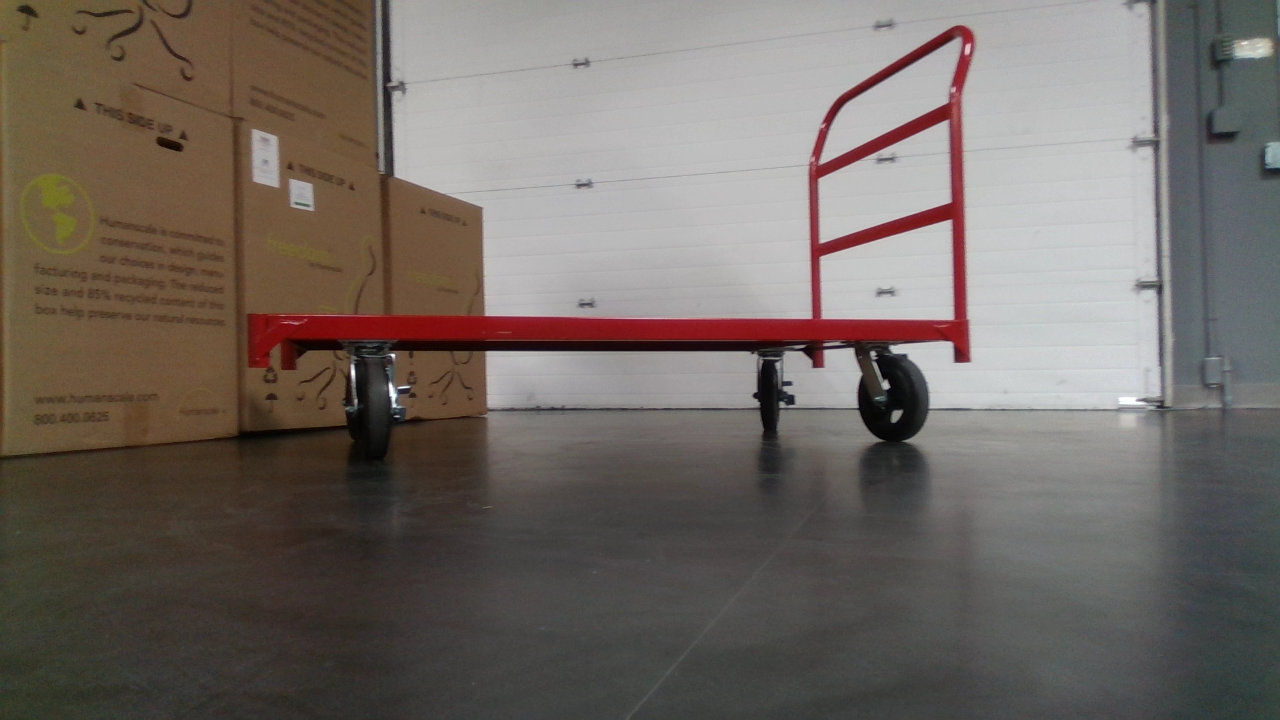Dolly: (240, 24, 1014, 462)
Wheel: (344, 350, 409, 459), (854, 351, 929, 445), (756, 355, 790, 444)
